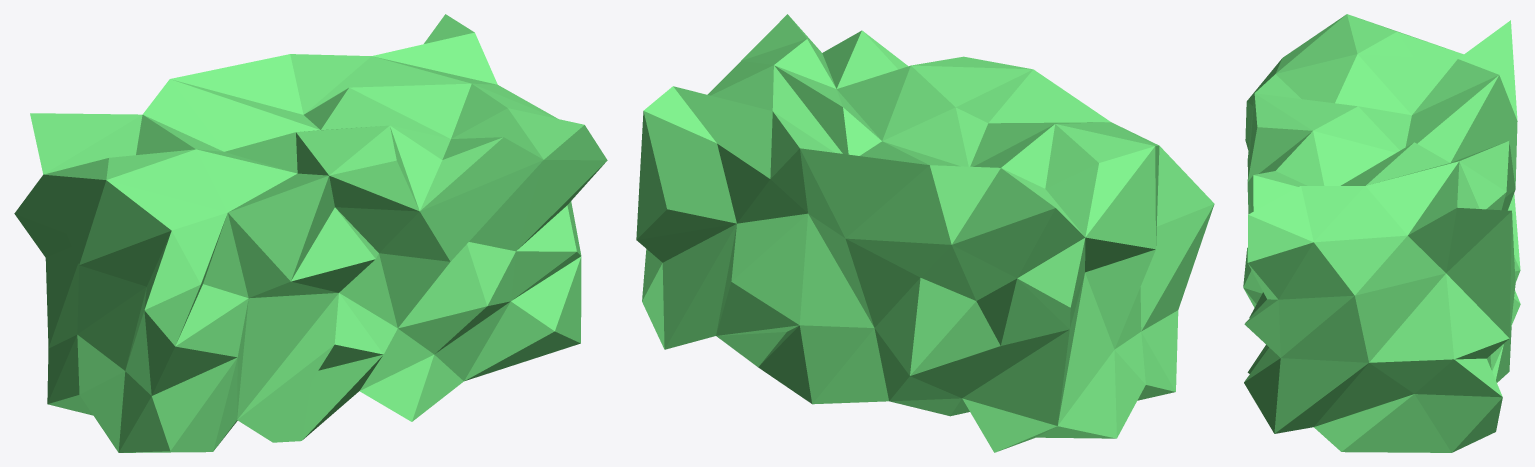
Rendered from buisson_03_lowpoly.fbx.
3 views of the same model, side by side, from view 1: azimuth 30°, elevation 25°; view 2: azimuth 150°, elevation 25°; view 3: azimuth 270°, elevation 25° (orthographic). The views are drawn at different scales.
Visible parts, largest first — view 1: Cube.009; view 2: Cube.009; view 3: Cube.009.
Boxes of the visible parts, box(x1,y1,x2,y2) form: Cube.009: box(14, 14, 607, 452); Cube.009: box(636, 14, 1214, 452); Cube.009: box(1243, 14, 1520, 452).
Size of the model in its own units: 4.25 by 2.33 by 2.34.
